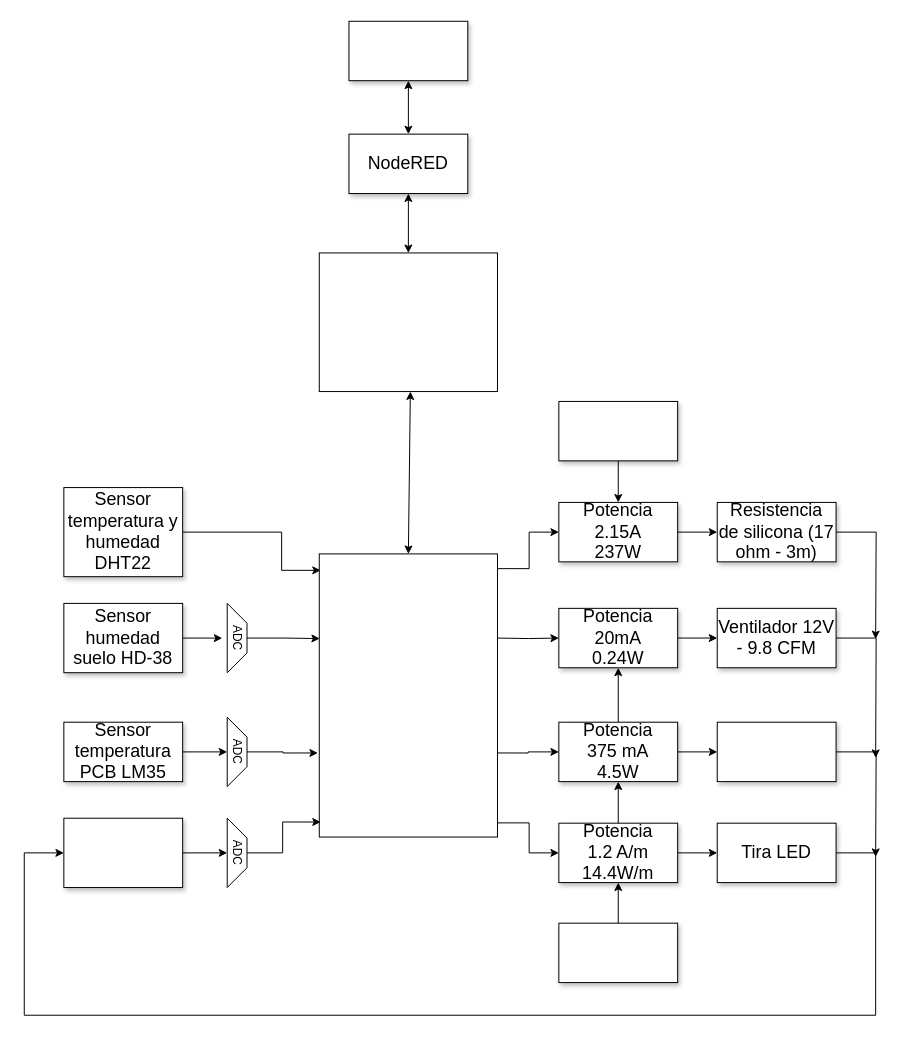
The diagram is 902 pixels wide and 1040 high, and some of its shapes have lost their labels. Each missing label, with the centre of its shape:
"12 VDC" belongs at point 619,954.
"120 VAC" belongs at point 619,432.
"Bomba de agua, 240 lt/h" belongs at point 777,753.
"IBM Watson" belongs at point 409,52.
"Raspberry Pi Zero W" belongs at point 407,322.
"Sensores de corriente ACS712" belongs at point 124,853.
"STM32" belongs at point 407,695.
